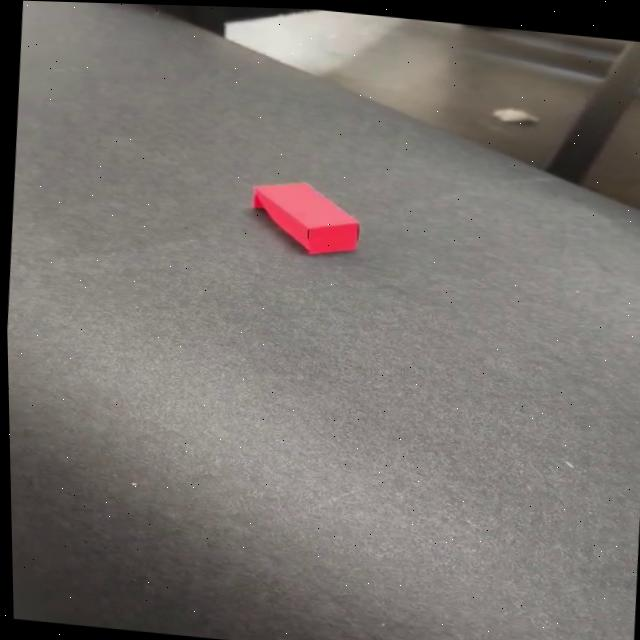red block: (247, 174, 364, 258)
